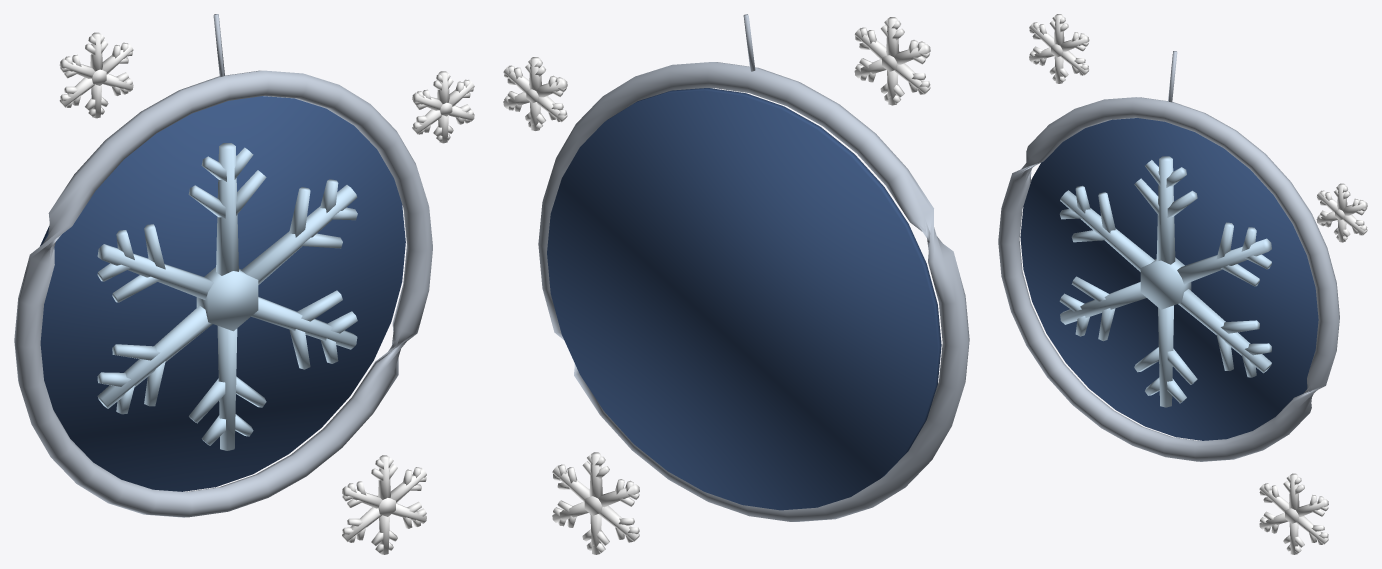
File: snowflake-wall.glb
The picture shows the model from 3 angles, left to right: view 1: azimuth 30°, elevation 25°; view 2: azimuth 150°, elevation 25°; view 3: azimuth 330°, elevation 25°; orthographic projection. The views are drawn at different scales.
Parts seen in each view (by area): view 1: deco; view 2: deco; view 3: deco.
Part boxes in pixels (<box>): deco: <box>14,14,474,554</box>; deco: <box>503,14,969,554</box>; deco: <box>998,14,1367,554</box>.
Bounding box in the file's own units: 0.694 × 0.86 × 0.056.
